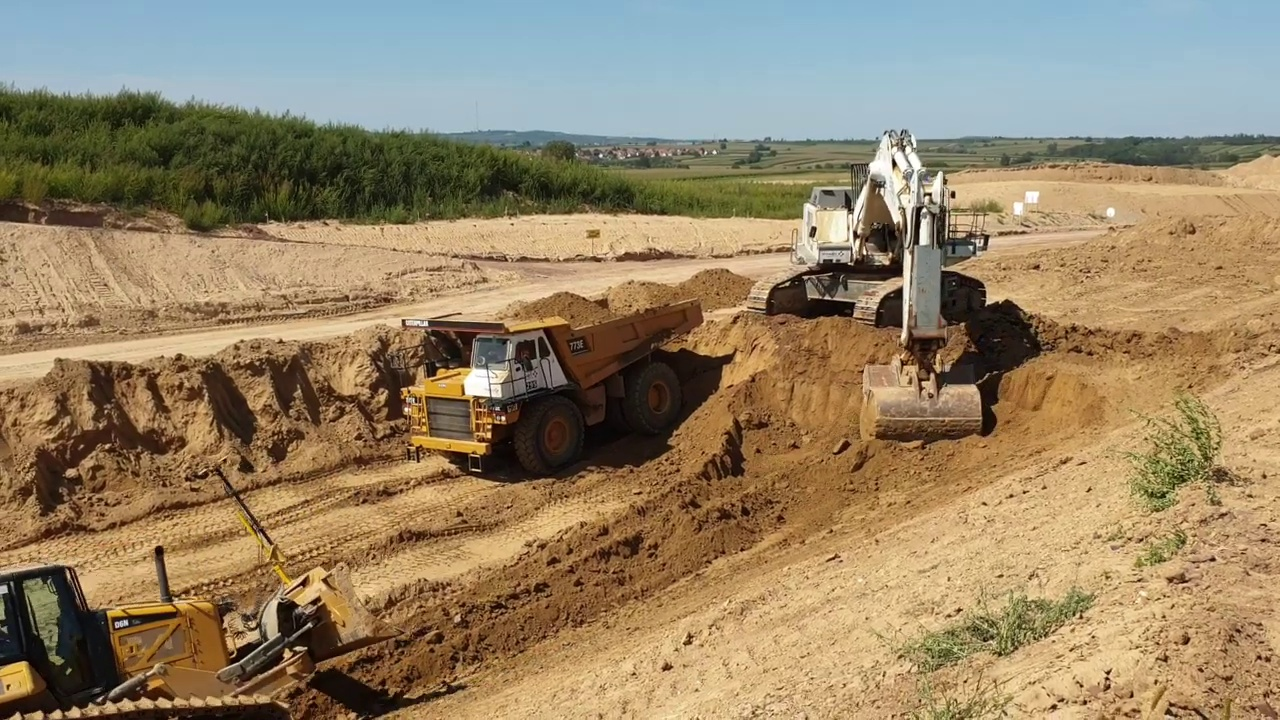bulldozer: (4, 455, 407, 720)
excavator: (749, 124, 1004, 444)
truck: (397, 296, 711, 483)
